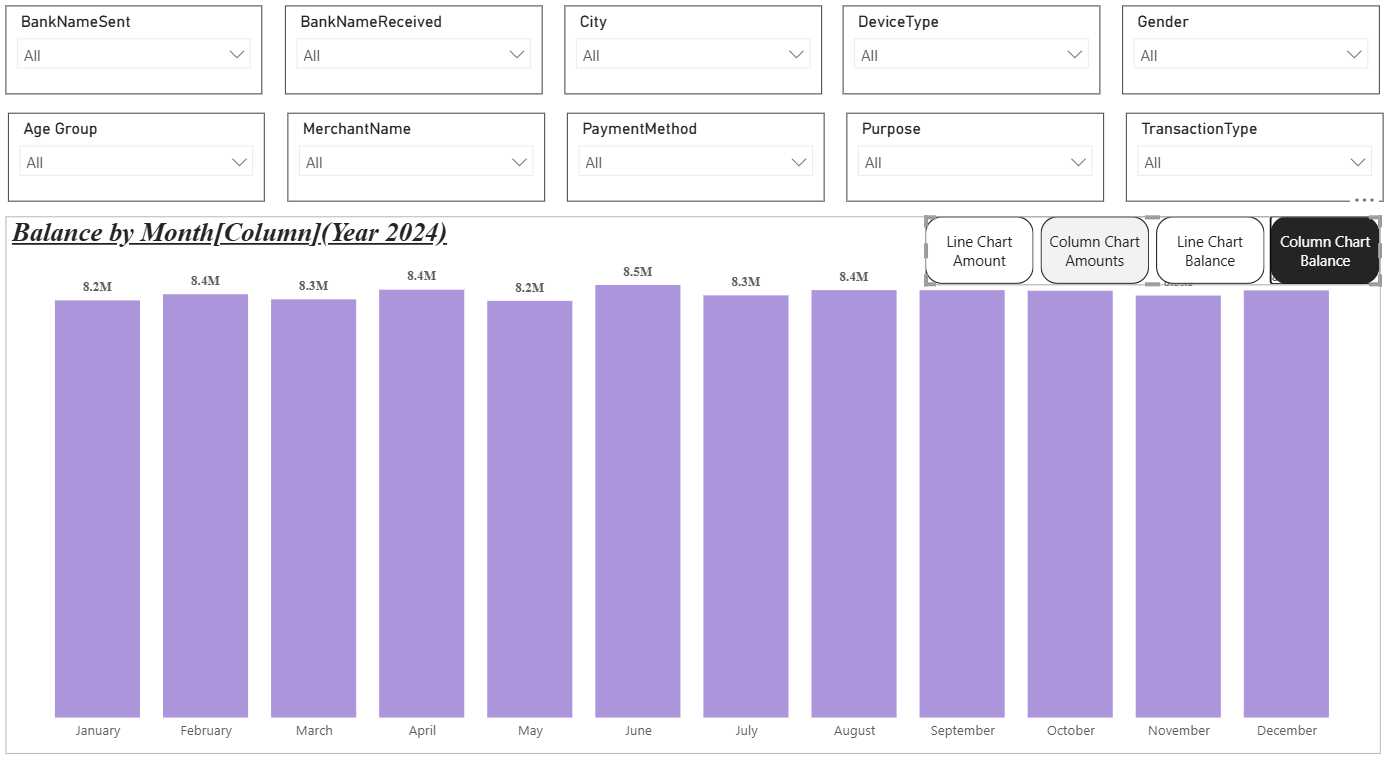

This screenshot's page, from the dashboard's own definition file:
{"tool":"powerbi","page":{"name":"Transaction Chart","canvas":[1280,720],"ordinal":0},"visuals":[{"type":"slicer","fields":{"Values":["UPI Transaction.BankNameSent"]},"box":[20,20,232,80],"z":0},{"type":"slicer","fields":{"Values":["UPI Transaction.BankNameReceived"]},"box":[272,20,232.5,80],"z":1000},{"type":"slicer","fields":{"Values":["UPI Transaction.City"]},"box":[524,20,232.5,80],"z":2000},{"type":"slicer","fields":{"Values":["UPI Transaction.DeviceType"]},"box":[776,20,232.5,80],"z":3000},{"type":"slicer","fields":{"Values":["UPI Transaction.Gender"]},"box":[1028,20,232.5,80],"z":4000},{"type":"slicer","fields":{"Values":["UPI Transaction.Age Group"]},"box":[22.9,117.3,232,80],"z":5000},{"type":"slicer","fields":{"Values":["UPI Transaction.MerchantName"]},"box":[274.9,117.3,232.5,80],"z":6000},{"type":"slicer","fields":{"Values":["UPI Transaction.PaymentMethod"]},"box":[526.9,117.3,232.5,80],"z":7000},{"type":"slicer","fields":{"Values":["UPI Transaction.Purpose"]},"box":[778.9,117.3,232.5,80],"z":8000},{"type":"slicer","fields":{"Values":["UPI Transaction.TransactionType"]},"box":[1030.9,117.3,232.5,80],"z":9000},{"type":"lineChart","title":"Balance by Month[Line](Year 2024)","fields":{"Category":["UPI Transaction.TransactionDate.Variation.Date Hierarchy.Month"],"Y":["Sum(UPI Transaction.RemainingBalance)"]},"box":[20.2,209.5,1240.5,484.5],"z":14000},{"type":"bookmarkNavigator","box":[850,210.7,410.7,61.9],"z":15001}]}

Visuals, with their boxes in screenshot pixels (x1, y1, x2, y2), scaled from the page's 1280x720 canvas onto the 1389x762 screenshot:
slicer - UPI Transaction.BankNameSent: (x1=22, y1=21, x2=273, y2=106)
slicer - UPI Transaction.BankNameReceived: (x1=295, y1=21, x2=547, y2=106)
slicer - UPI Transaction.City: (x1=569, y1=21, x2=821, y2=106)
slicer - UPI Transaction.DeviceType: (x1=842, y1=21, x2=1094, y2=106)
slicer - UPI Transaction.Gender: (x1=1116, y1=21, x2=1368, y2=106)
slicer - UPI Transaction.Age Group: (x1=25, y1=124, x2=277, y2=209)
slicer - UPI Transaction.MerchantName: (x1=298, y1=124, x2=551, y2=209)
slicer - UPI Transaction.PaymentMethod: (x1=572, y1=124, x2=824, y2=209)
slicer - UPI Transaction.Purpose: (x1=845, y1=124, x2=1098, y2=209)
slicer - UPI Transaction.TransactionType: (x1=1119, y1=124, x2=1371, y2=209)
"Balance by Month[Line](Year 2024)" lineChart: (x1=22, y1=222, x2=1368, y2=734)
bookmarkNavigator: (x1=922, y1=223, x2=1368, y2=289)
